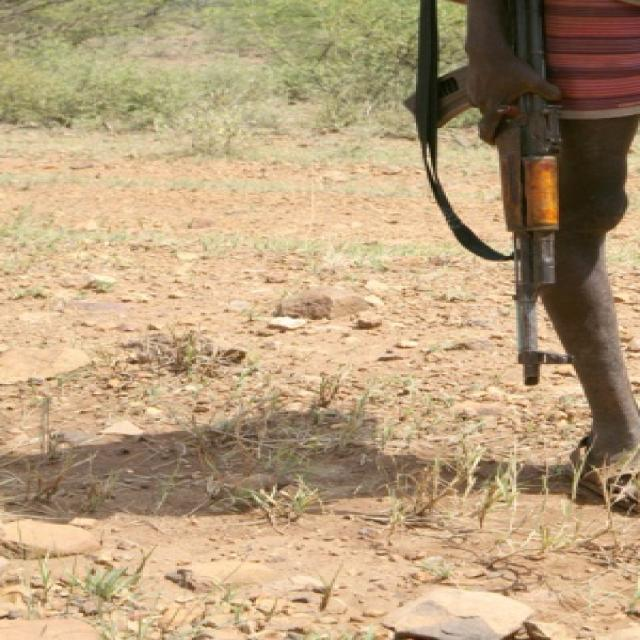Guns: (384, 0, 619, 393)
